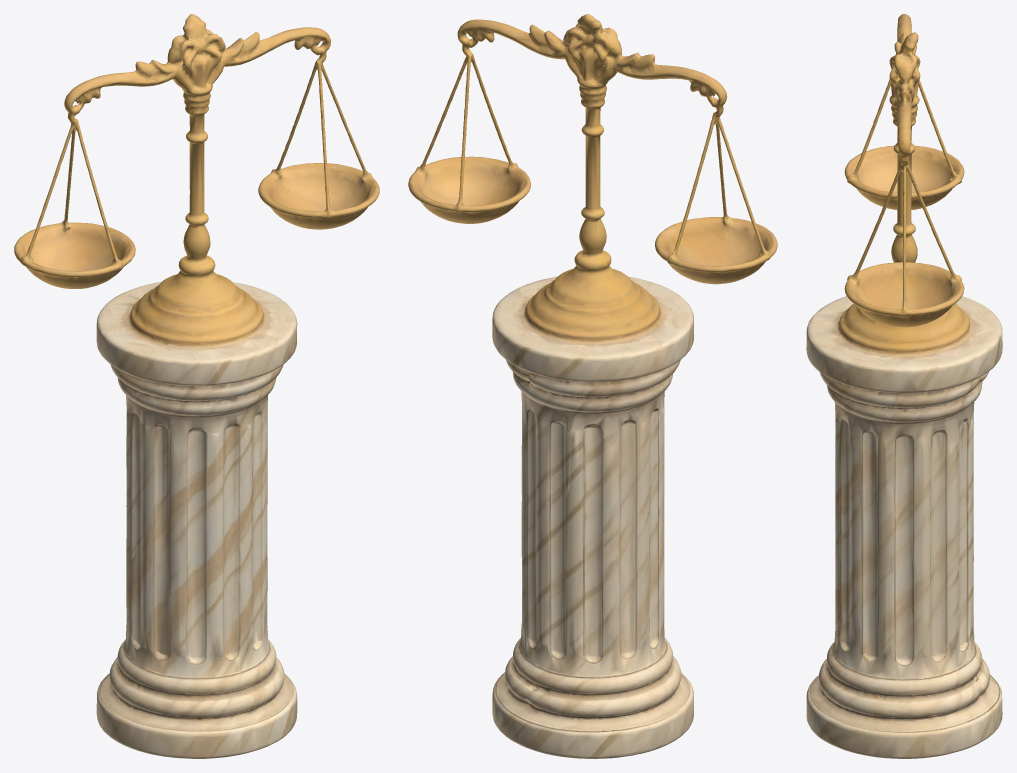
File: statue.glb
The picture shows the model from 3 angles, left to right: view 1: azimuth 30°, elevation 25°; view 2: azimuth 150°, elevation 25°; view 3: azimuth 270°, elevation 25°; orthographic projection. The views are drawn at different scales.
Parts seen in each view (by area): view 1: Mesh_0; view 2: Mesh_0; view 3: Mesh_0.
Part boxes in pixels (bbox=[...]): Mesh_0: bbox=[14, 14, 379, 758]; Mesh_0: bbox=[408, 14, 777, 758]; Mesh_0: bbox=[806, 14, 1002, 758].
Bounding box in the file's own units: 0.9998 × 1.91 × 0.4945.
Materials: 1 (1 with a texture image).
